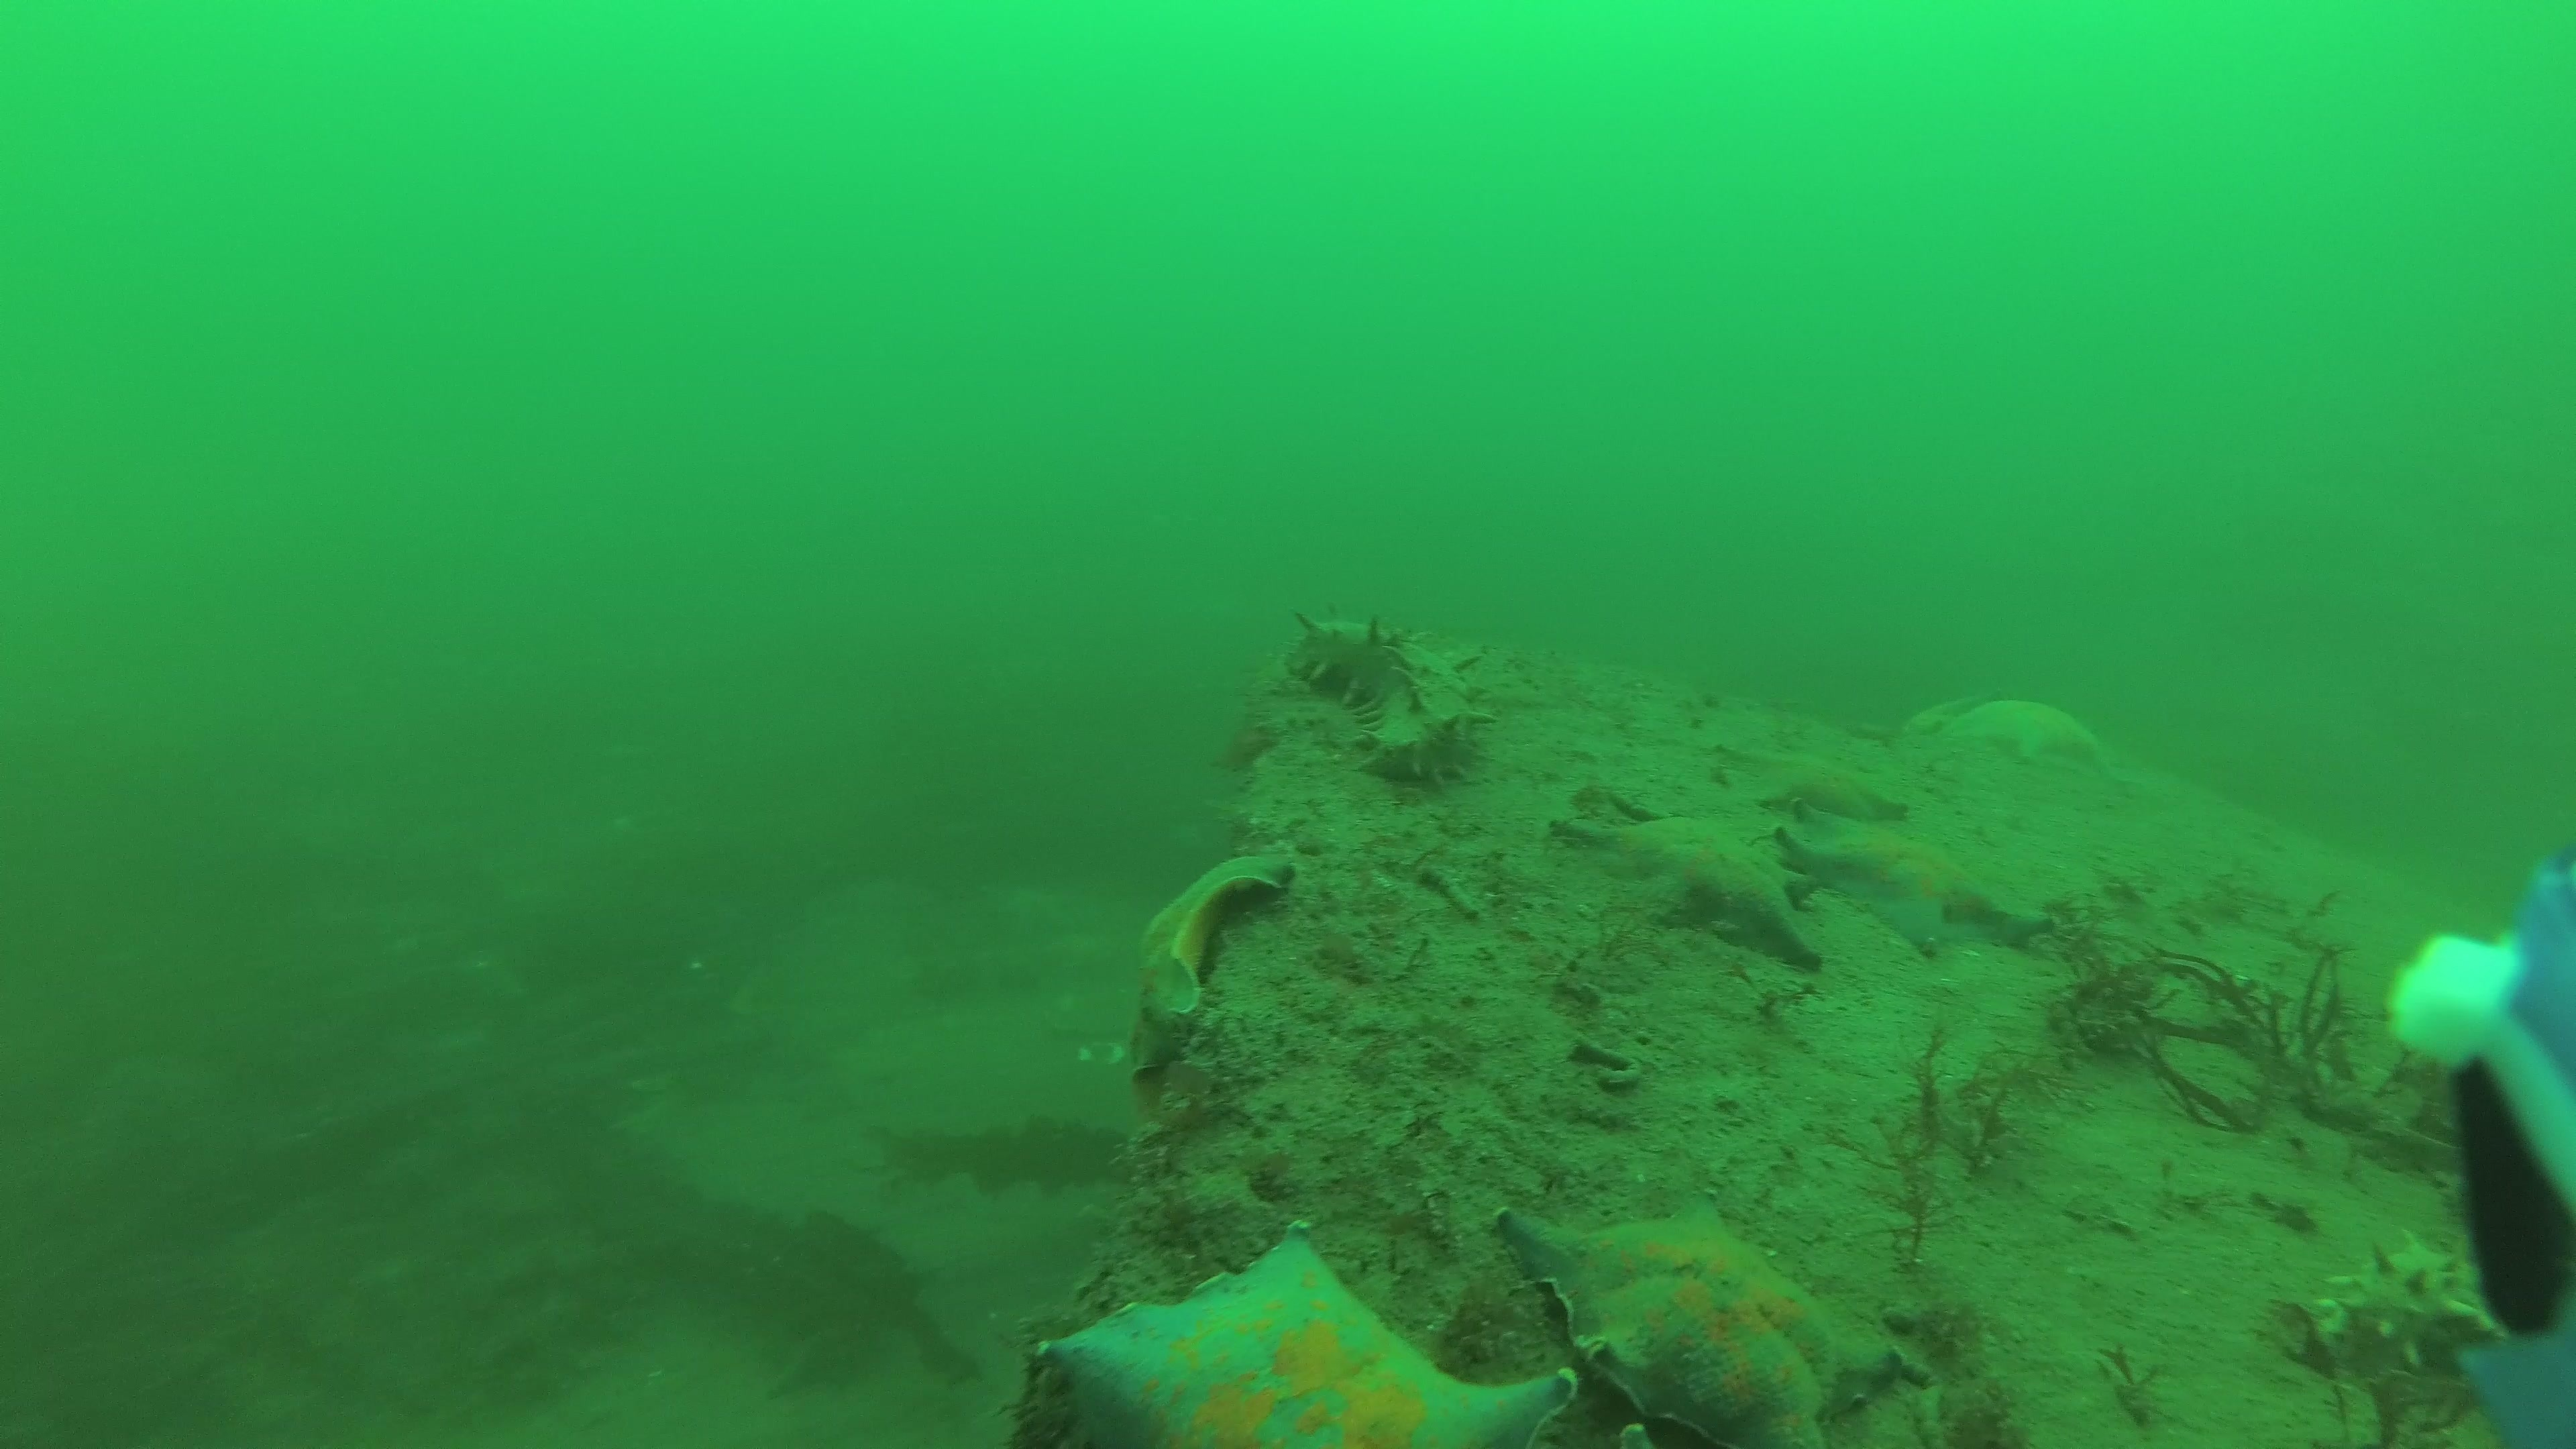holothurian: (1284, 605, 1504, 794), (2328, 1233, 2502, 1378)
starfish: (1035, 1215, 1580, 1449), (1491, 1194, 1909, 1449), (1775, 800, 2047, 962), (1559, 810, 1824, 971), (1141, 851, 1292, 1077), (1941, 697, 2114, 773)
